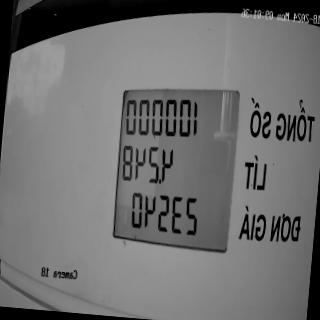screen: (108, 77, 243, 255)
